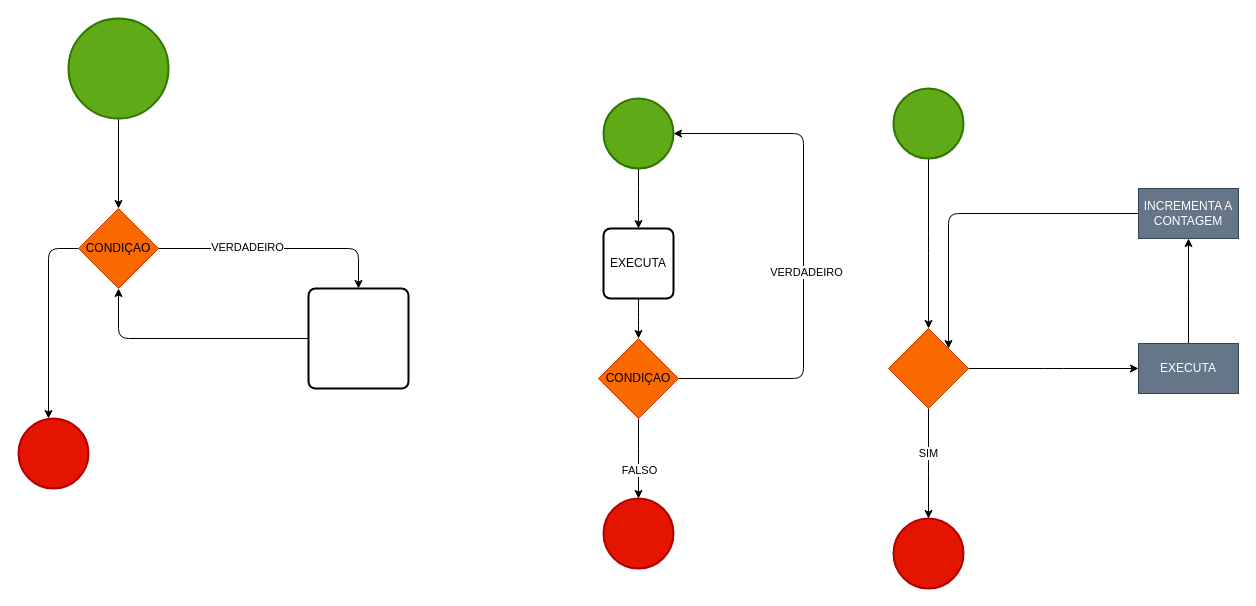
The diagram is 1256 pixels wide and 606 high, and some of its shapes have lost their labels. Here are the shapes that lost their labels. From the top down, the box of each, then its label:
(307, 287, 409, 389): Executar
(888, 328, 968, 408): ULTIMO?
